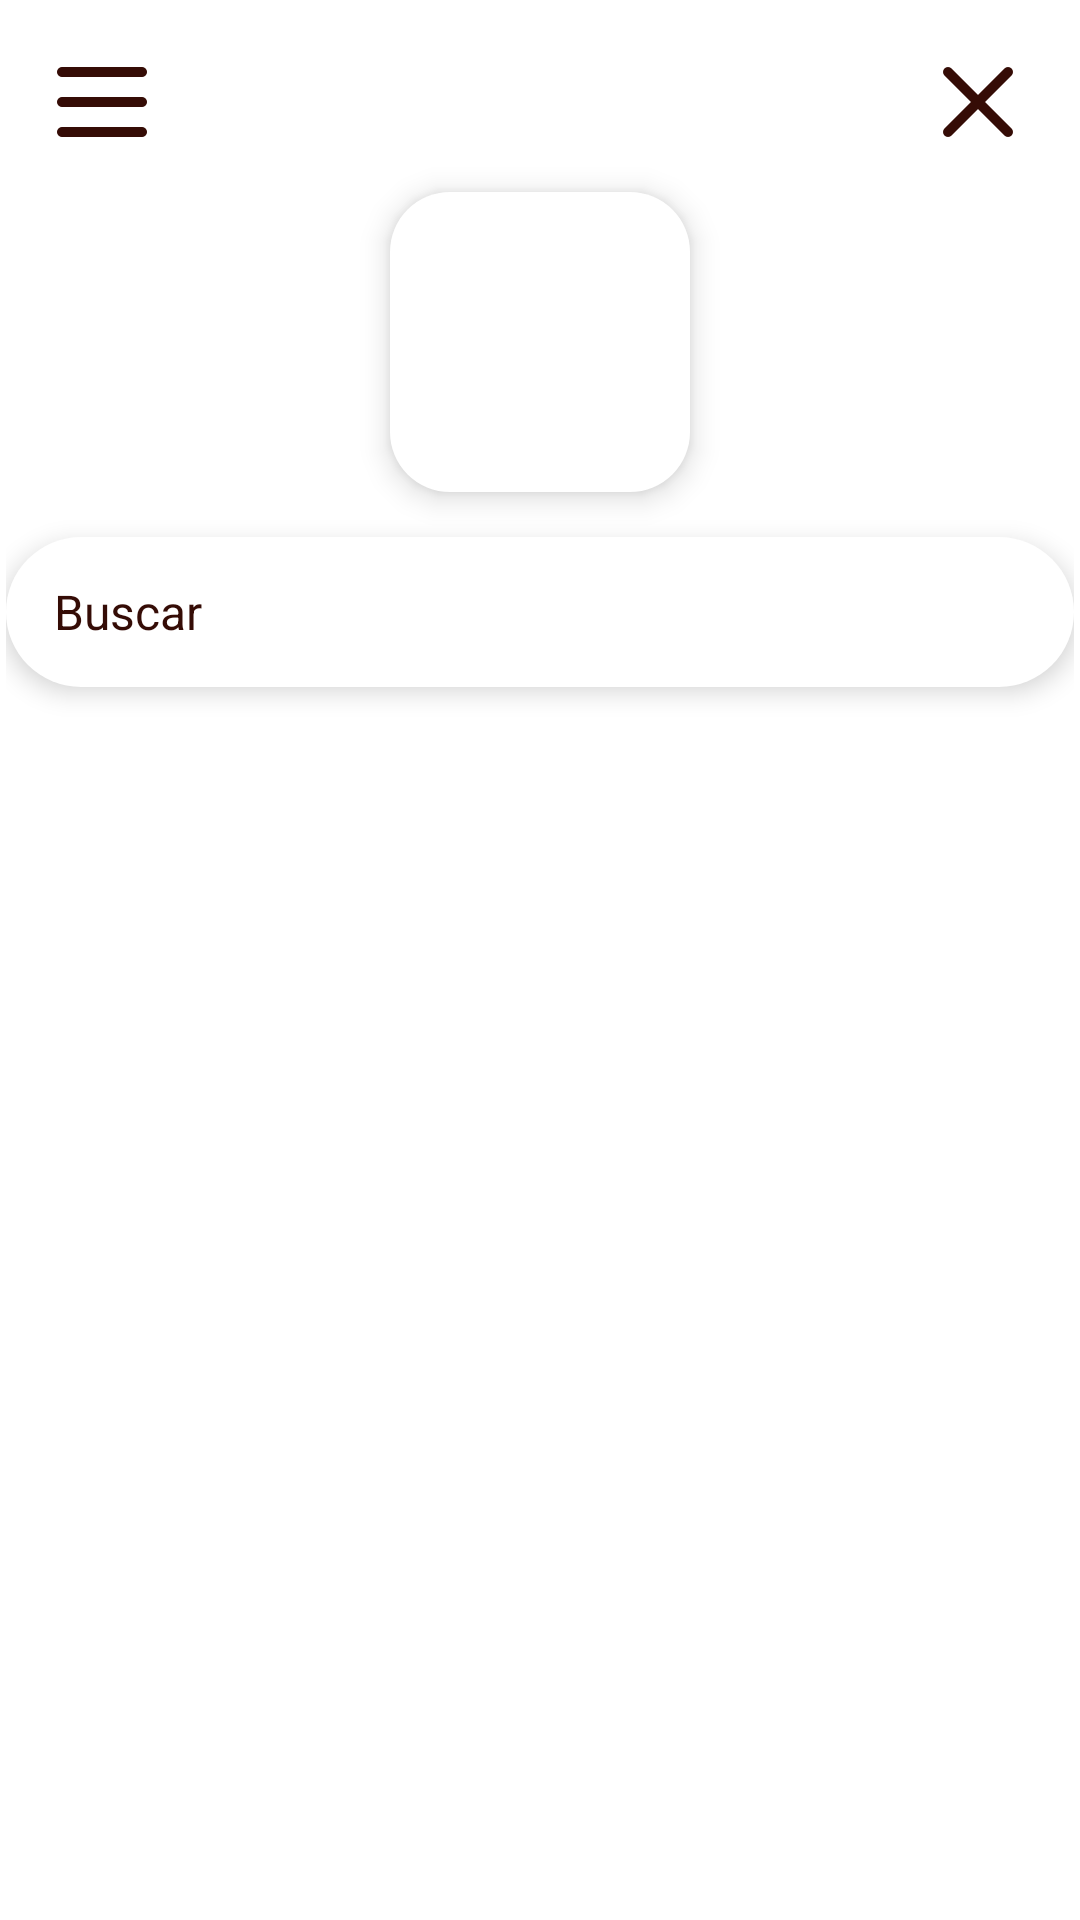

Point at icon controls on the screen. Image size 1080x1920, points as (x=x, y=y).
close: (x=978, y=102)
menu: (x=102, y=102)
